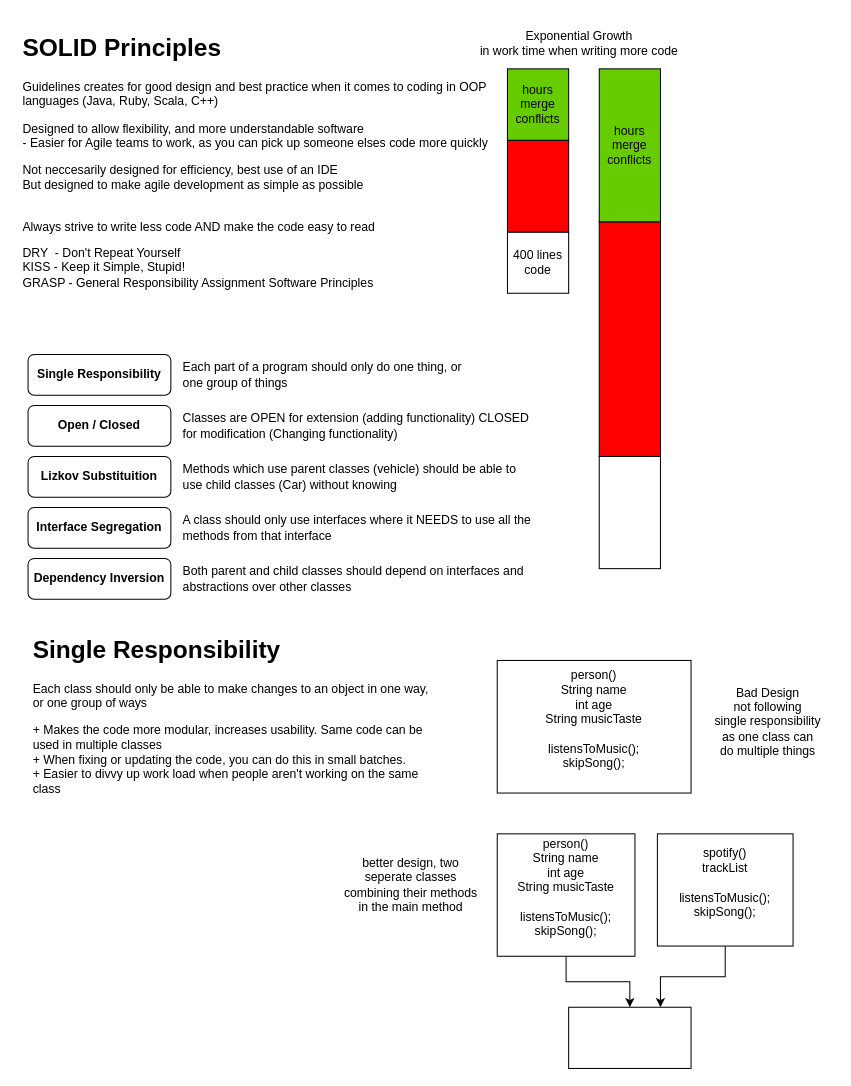
The diagram is 851 pixels wide and 1086 high, and some of its shapes have lost their labels. The centre of each missing label's shape, as x and y in pixels:
1400 lines test: (x=629, y=338)
600 lines test: (x=537, y=185)
800 lines code: (x=629, y=512)
Runner Main(): (x=629, y=1037)
